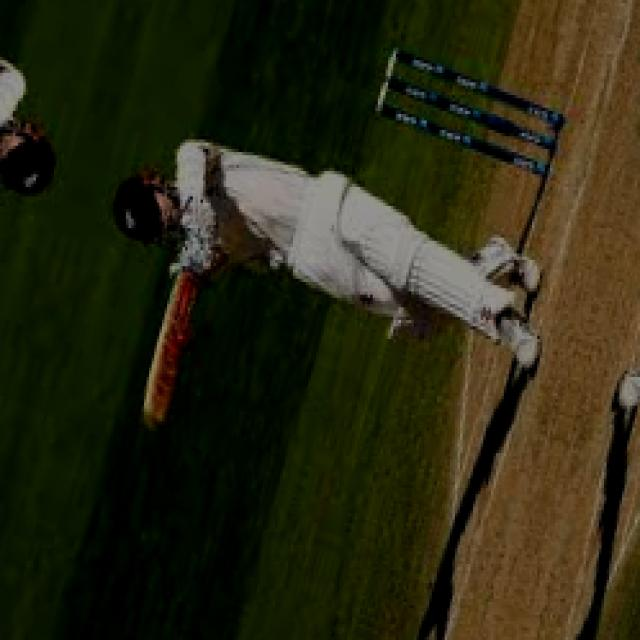toe: (132, 395, 168, 434)
